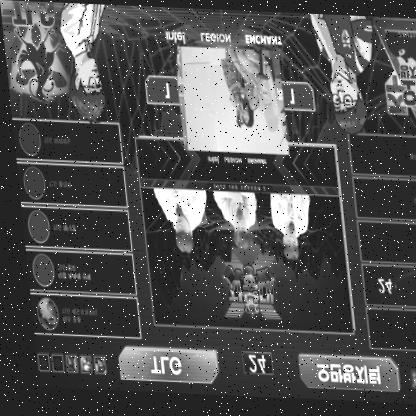streamer: (229, 47, 263, 126), (219, 47, 244, 126)
